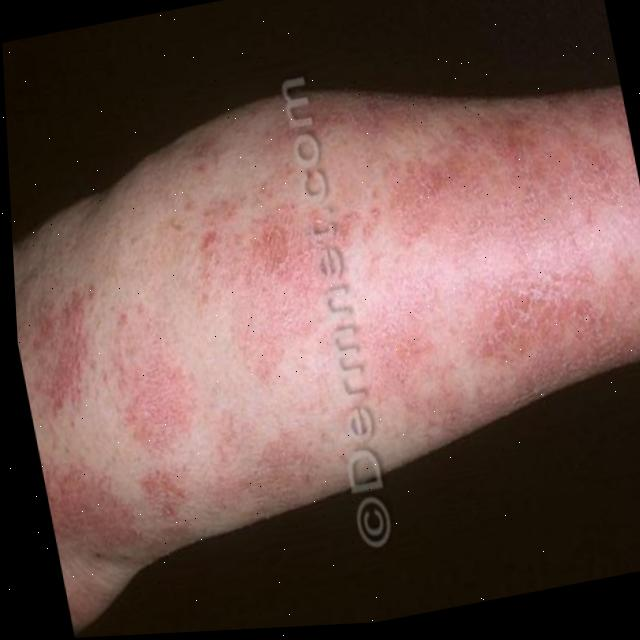Eczema: (6, 83, 640, 568)
